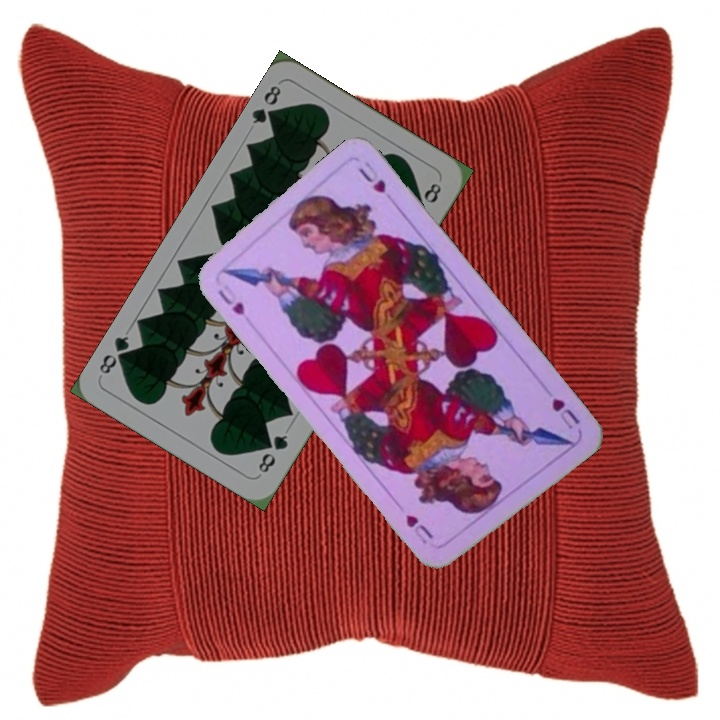G8: (247, 81, 284, 128), (254, 430, 291, 476)
HU: (547, 393, 583, 432), (214, 285, 248, 318)
